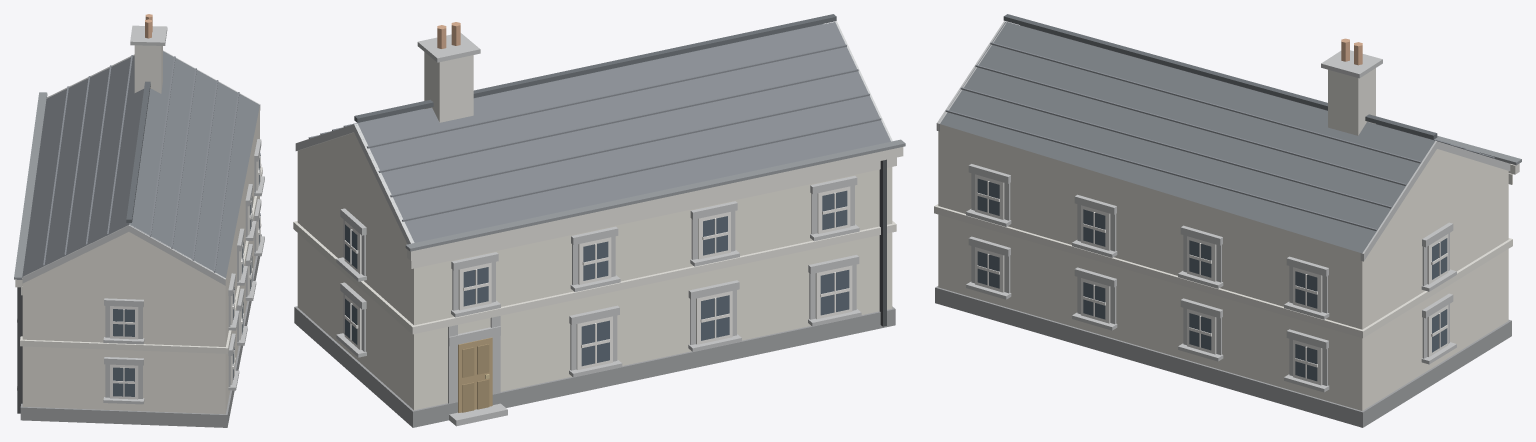
3 views of the same model, side by side, from view 1: azimuth 30°, elevation 25°; view 2: azimuth 150°, elevation 25°; view 3: azimuth 270°, elevation 25° (orthographic). The views are drawn at different scales.
Visible parts, largest first — view 1: slate, harl_cream, stone_band, plinth, slate_lt, frame, string, lead, chim_render, slate_dk, pipe, window_glass_018 (+1 smaller); view 2: harl_cream, slate, stone_band, string, plinth, frame, slate_lt, lead, slate_dk, chim_render, door_wood_p, pipe (+8 smaller); view 3: harl_cream, slate, stone_band, plinth, frame, slate_lt, string, slate_dk, chim_render, window_glass_012, window_glass_010, window_glass_015 (+5 smaller).
Part boxes in pixels (x1=…): slate: x1=22, y1=51, x2=259, y2=277; harl_cream: x1=22, y1=106, x2=259, y2=414; stone_band: x1=17, y1=25, x2=264, y2=404; plinth: x1=20, y1=234, x2=261, y2=427; slate_lt: x1=43, y1=55, x2=239, y2=272; frame: x1=110, y1=153, x2=261, y2=399; string: x1=15, y1=96, x2=262, y2=353; lead: x1=14, y1=92, x2=47, y2=279; chim_render: x1=134, y1=45, x2=162, y2=93; slate_dk: x1=126, y1=81, x2=150, y2=222; pipe: x1=17, y1=287, x2=22, y2=413; window_glass_018: x1=113, y1=367, x2=134, y2=396; harl_cream: x1=297, y1=132, x2=892, y2=410; slate: x1=356, y1=22, x2=890, y2=242; stone_band: x1=295, y1=21, x2=892, y2=426; string: x1=293, y1=147, x2=903, y2=334; plinth: x1=294, y1=306, x2=895, y2=427; frame: x1=344, y1=186, x2=852, y2=370; slate_lt: x1=308, y1=24, x2=881, y2=221; lead: x1=405, y1=139, x2=905, y2=251; slate_dk: x1=354, y1=14, x2=836, y2=122; chim_render: x1=424, y1=52, x2=473, y2=122; door_wood_p: x1=462, y1=344, x2=489, y2=412; pipe: x1=879, y1=159, x2=886, y2=326; harl_cream: x1=938, y1=124, x2=1508, y2=410; slate: x1=940, y1=21, x2=1434, y2=253; stone_band: x1=936, y1=21, x2=1510, y2=392; plinth: x1=935, y1=286, x2=1511, y2=427; frame: x1=975, y1=174, x2=1448, y2=385; slate_lt: x1=945, y1=25, x2=1494, y2=231; string: x1=934, y1=163, x2=1519, y2=338; slate_dk: x1=1003, y1=14, x2=1437, y2=139; chim_render: x1=1328, y1=68, x2=1375, y2=135; window_glass_012: x1=1189, y1=313, x2=1211, y2=350; window_glass_010: x1=1083, y1=282, x2=1105, y2=319; window_glass_015: x1=1295, y1=271, x2=1317, y2=308.
Bounding box in the file's own units: 13.42 × 9.13 × 15.39.
